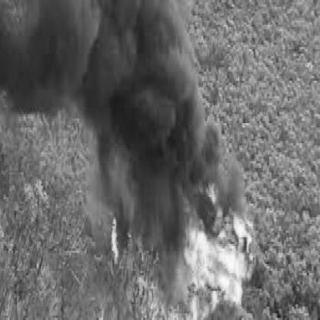Fire: (108, 182, 250, 310)
